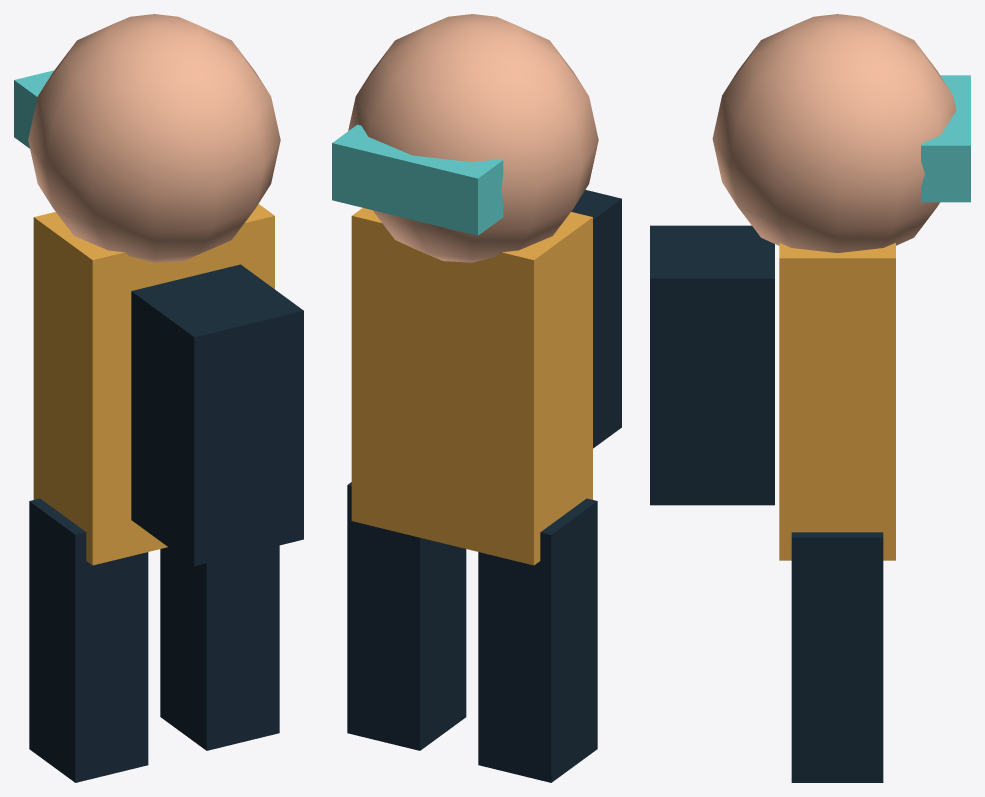
Rendered from diver.glb.
The picture shows the model from 3 angles, left to right: view 1: azimuth 30°, elevation 25°; view 2: azimuth 150°, elevation 25°; view 3: azimuth 270°, elevation 25°; orthographic projection.
Visible parts, largest first — view 1: diver; view 2: diver; view 3: diver.
Part boxes in pixels (box(x1,y1,x2,y2)): diver: box(14, 14, 303, 782); diver: box(332, 14, 621, 782); diver: box(650, 14, 970, 782).
Size of the model in its own units: 0.6 by 1.87 by 0.77.
